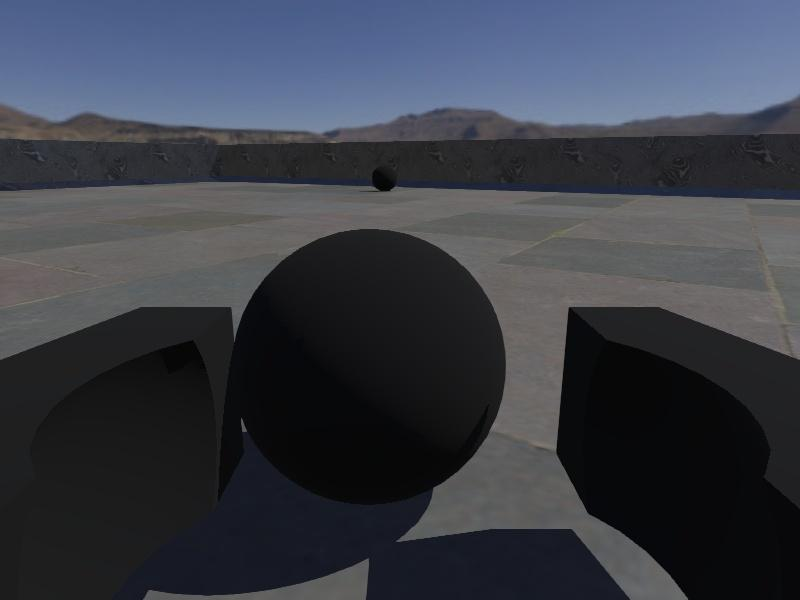black ball: (234, 228, 507, 508), (371, 163, 400, 192)
